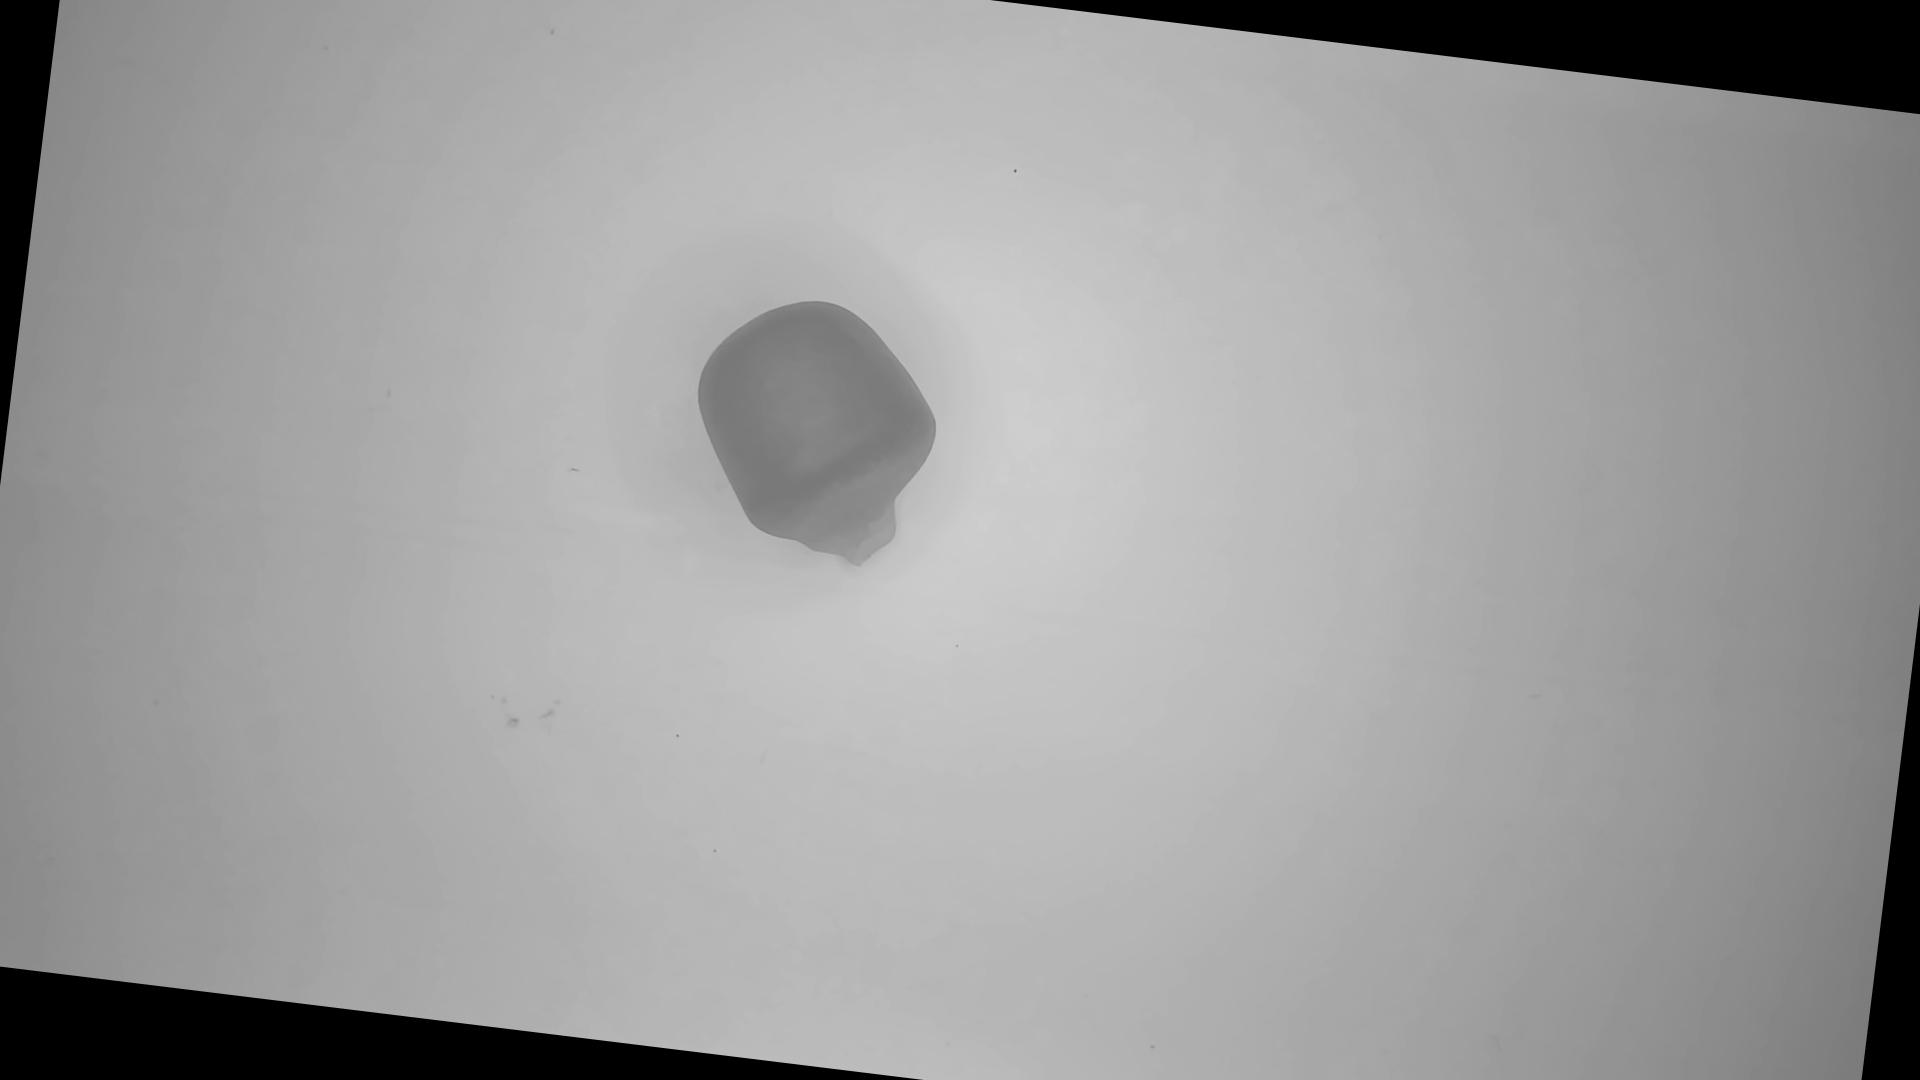abnormal: (679, 286, 953, 578)
